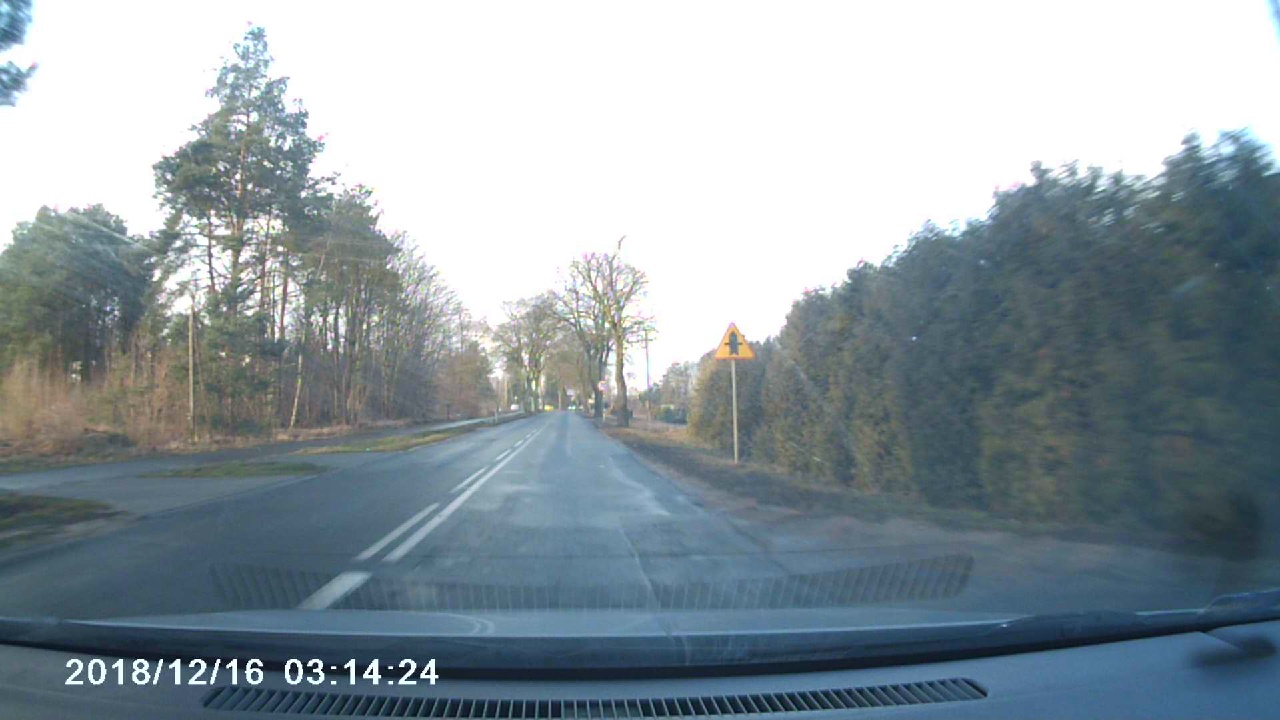A6a: (713, 322, 755, 360)
